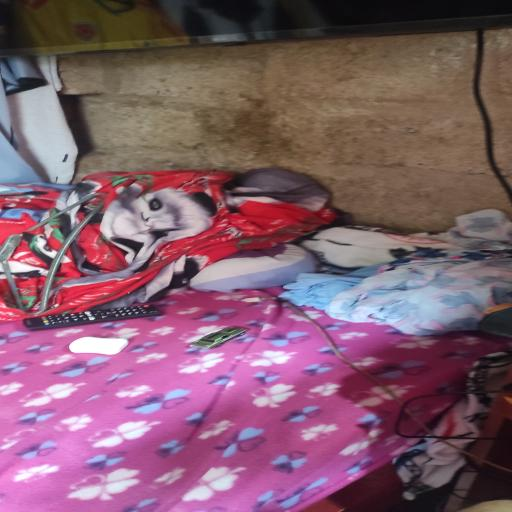Carrito: (190, 327, 247, 349)
